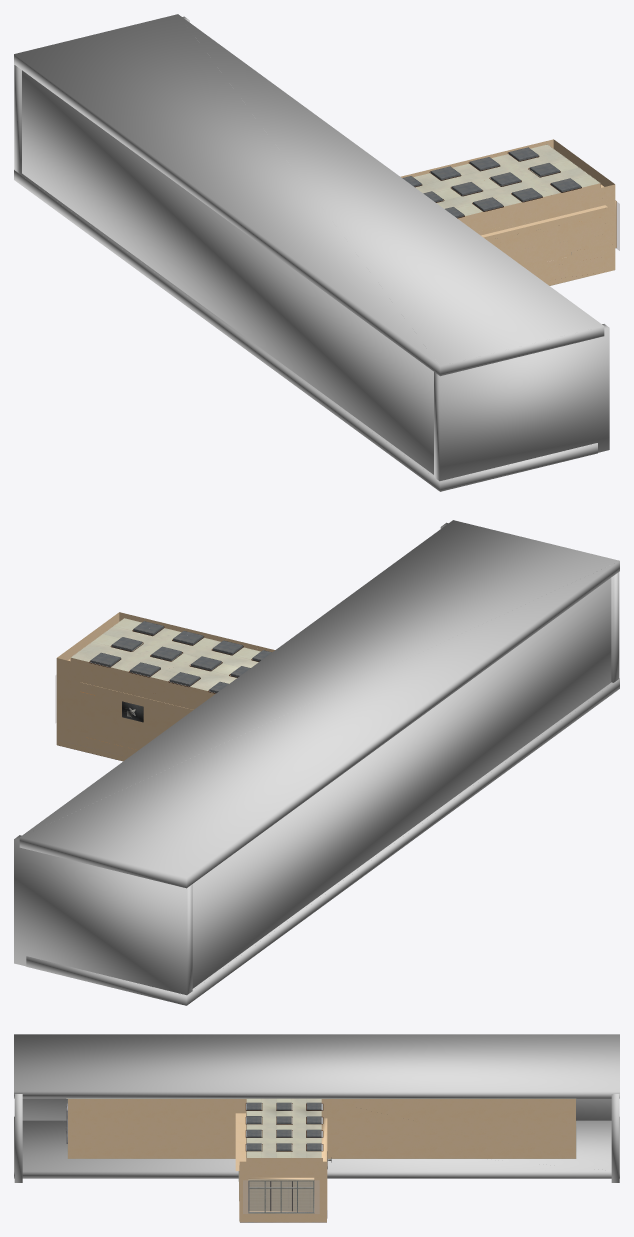
The model's file is hospital-ward.glb.
3 views of the same model, one above another, from view 1: azimuth 30°, elevation 25°; view 2: azimuth 150°, elevation 25°; view 3: azimuth 270°, elevation 25° (orthographic). The views are drawn at different scales.
Parts seen in each view (by area): view 1: ceiling 0 1, ceiling -1 -2, rest -1 -2, rest -1 1, rest -1 4, rest 0 4, rest 2 1, rest 1 1, ceiling 2 0, ceiling 1 0, floor -1 -2, rest -1 -5 (+1 smaller); view 2: ceiling 0 1, ceiling -1 -2, rest -1 -2, rest -1 1, rest -1 -5, rest 0 -5, rest 2 -1, ceiling 2 0, ceiling 1 0, rest 1 -1, rest 3 -1, floor -1 -2 (+2 smaller); view 3: ceiling 0 1, ceiling -1 -2, rest 0 -2, rest 0 -3, floor 0 1, rest 0 2, rest 0 1, rest 3 0, rest 1 1, rest 1 -2, floor -1 -2, ceiling 2 0 (+12 smaller).
Boxes of the visible parts, x1=… form: ceiling 0 1: x1=178, y1=14, x2=603, y2=365; ceiling -1 -2: x1=14, y1=14, x2=439, y2=365; rest -1 -2: x1=14, y1=54, x2=435, y2=486; rest -1 1: x1=19, y1=58, x2=440, y2=491; rest -1 4: x1=434, y1=336, x2=608, y2=491; rest 0 4: x1=443, y1=326, x2=609, y2=480; rest 2 1: x1=462, y1=181, x2=615, y2=281; rest 1 1: x1=454, y1=183, x2=613, y2=285; ceiling 2 0: x1=461, y1=144, x2=589, y2=198; ceiling 1 0: x1=402, y1=163, x2=511, y2=215; floor -1 -2: x1=20, y1=173, x2=433, y2=476; rest -1 -5: x1=14, y1=65, x2=21, y2=173; ceiling 0 1: x1=21, y1=520, x2=619, y2=836; ceiling -1 -2: x1=20, y1=561, x2=618, y2=877; rest -1 -2: x1=186, y1=576, x2=612, y2=1005; rest -1 1: x1=192, y1=561, x2=619, y2=989; rest -1 -5: x1=14, y1=838, x2=192, y2=1005; rest 0 -5: x1=14, y1=837, x2=183, y2=1004; rest 2 -1: x1=57, y1=658, x2=163, y2=761; ceiling 2 0: x1=71, y1=621, x2=211, y2=676; ceiling 1 0: x1=151, y1=640, x2=266, y2=691; rest 1 -1: x1=72, y1=658, x2=218, y2=737; rest 3 -1: x1=56, y1=651, x2=74, y2=749; floor -1 -2: x1=27, y1=682, x2=612, y2=995; ceiling 0 1: x1=14, y1=1034, x2=617, y2=1091; ceiling -1 -2: x1=14, y1=1034, x2=619, y2=1091; rest 0 -2: x1=23, y1=1099, x2=619, y2=1178; rest 0 -3: x1=322, y1=1099, x2=575, y2=1158; floor 0 1: x1=14, y1=1116, x2=611, y2=1171; rest 0 2: x1=68, y1=1099, x2=235, y2=1158; rest 0 1: x1=14, y1=1099, x2=604, y2=1178; rest 3 0: x1=240, y1=1158, x2=326, y2=1222; rest 1 1: x1=14, y1=1091, x2=608, y2=1157; rest 1 -2: x1=23, y1=1091, x2=619, y2=1098; floor -1 -2: x1=60, y1=1117, x2=619, y2=1170; ceiling 2 0: x1=247, y1=1124, x2=321, y2=1157.
Size of the model in its own units: 18.6 by 6.55 by 40.21.
75 materials, 67 textured.
